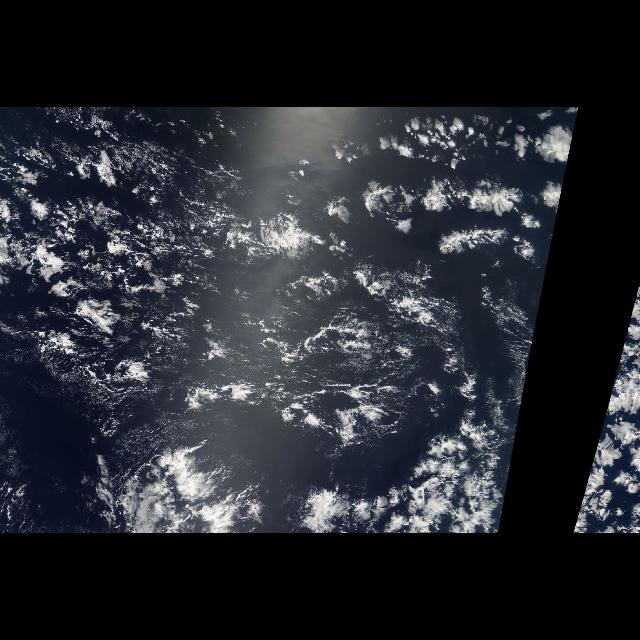Flower: (328, 108, 578, 255)
Gravel: (18, 182, 198, 396), (210, 272, 462, 424)
